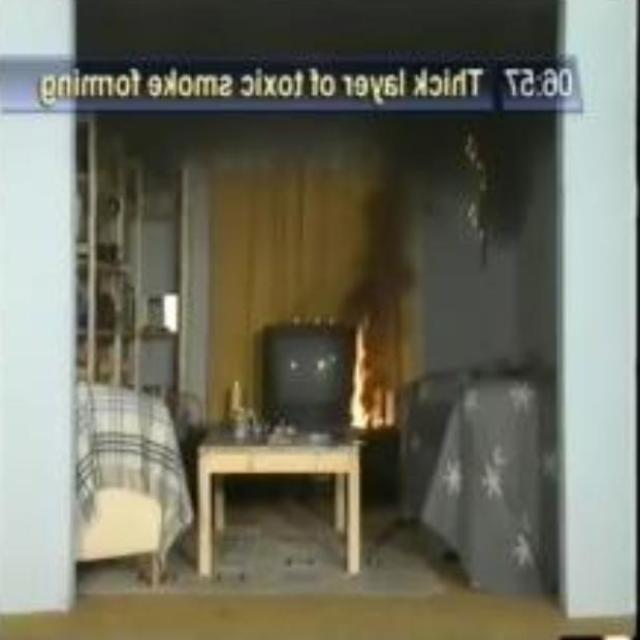fire: (336, 130, 426, 324)
smoke: (348, 321, 370, 428)
